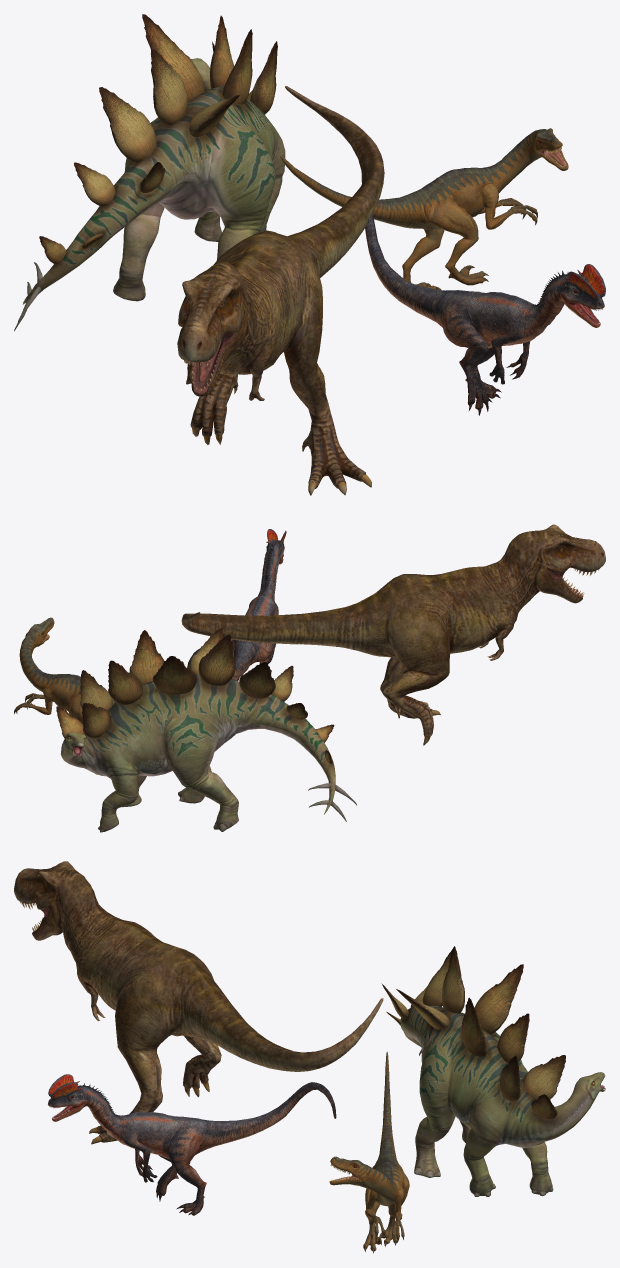
The model's file is dinos_mod.glb.
3 renders of one model, top to bottom at view 1: azimuth 30°, elevation 25°; view 2: azimuth 150°, elevation 25°; view 3: azimuth 270°, elevation 25°, orthographic. The views are drawn at different scales.
Parts seen in each view (by area): view 1: node_id48, node_id30, node_id36, node_id42; view 2: node_id48, node_id30, node_id42, node_id36; view 3: node_id30, node_id48, node_id36, node_id42.
Part boxes in pixels (x1,y1,x2,y2): node_id48: (14,14,285,331); node_id30: (177,86,384,495); node_id36: (365,214,605,415); node_id42: (280,128,568,290); node_id48: (56,628,356,832); node_id30: (181,524,605,745); node_id42: (14,617,116,741); node_id36: (187,529,286,681); node_id30: (14,861,383,1144); node_id48: (381,946,605,1196); node_id36: (48,1074,336,1215); node_id42: (329,1051,409,1253).
Size of the model in its own units: 1.17 by 0.5235 by 1.31.
4 materials, 4 textured.
